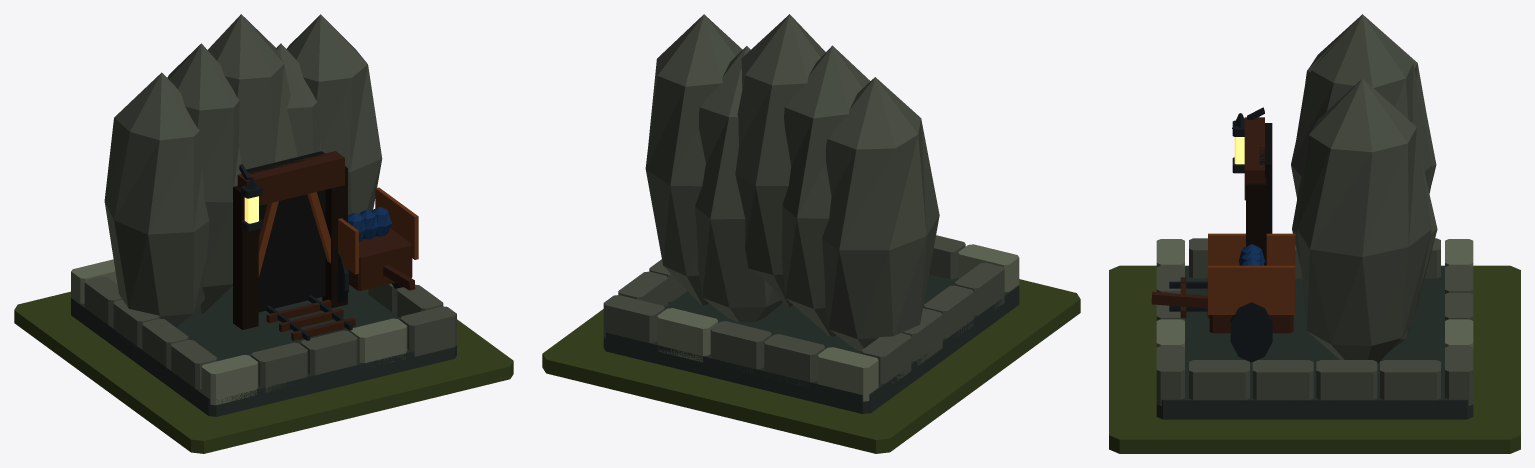
Rendered from mine_t5.glb.
The picture shows the model from 3 angles, left to right: view 1: azimuth 30°, elevation 25°; view 2: azimuth 150°, elevation 25°; view 3: azimuth 270°, elevation 25°; orthographic projection. The views are drawn at different scales.
Parts seen in each view (by area): view 1: MMR | mine | T05 Architecture.001, MMR | mine | Tier 05 Ground.001; view 2: MMR | mine | T05 Architecture.001, MMR | mine | Tier 05 Ground.001; view 3: MMR | mine | T05 Architecture.001, MMR | mine | Tier 05 Ground.001.
Part boxes in pixels (x1,y1,x2,y2): MMR | mine | T05 Architecture.001: (71, 14, 456, 416); MMR | mine | Tier 05 Ground.001: (14, 291, 513, 453); MMR | mine | T05 Architecture.001: (603, 14, 1019, 413); MMR | mine | Tier 05 Ground.001: (542, 279, 1080, 453); MMR | mine | T05 Architecture.001: (1151, 14, 1473, 419); MMR | mine | Tier 05 Ground.001: (1109, 265, 1520, 453).
Bounding box in the file's own units: 1.3 × 1.23 × 1.3.
Materials: 2 (1 with a texture image).
